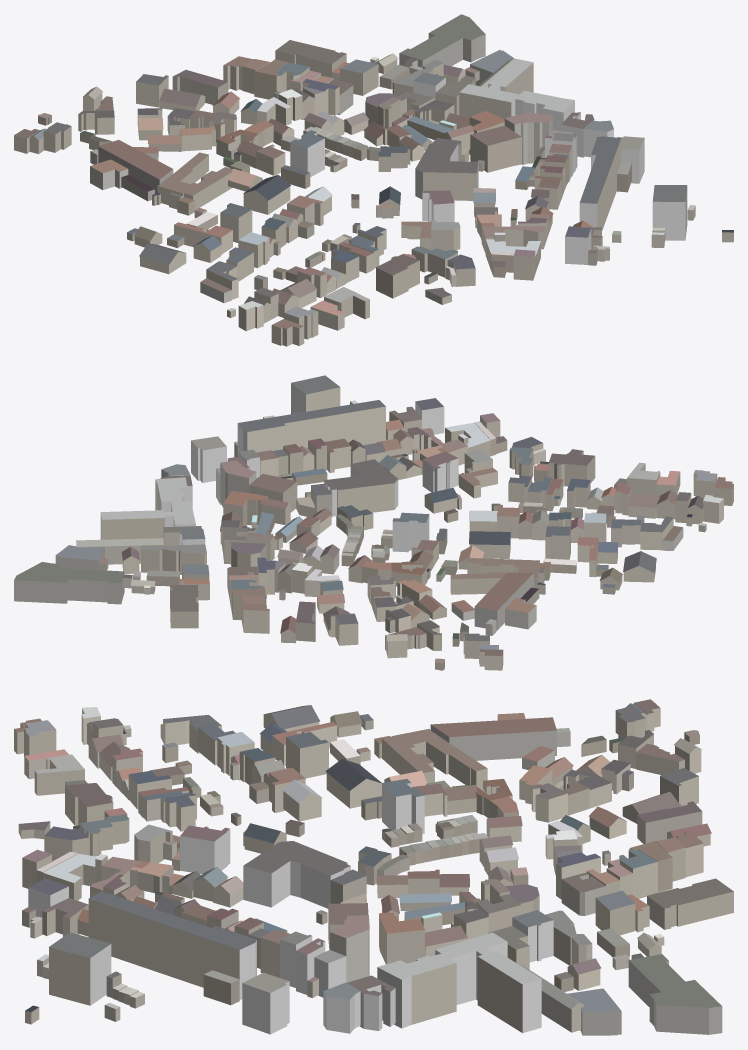
The picture shows the model from 3 angles, top to bottom: view 1: azimuth 30°, elevation 25°; view 2: azimuth 150°, elevation 25°; view 3: azimuth 270°, elevation 25°; orthographic projection. The views are drawn at different scales.
Visible parts, largest first — view 1: tuile; view 2: tuile; view 3: tuile.
Boxes of the visible parts, bbox=[...] form: tuile: bbox=[14, 14, 733, 346]; tuile: bbox=[14, 375, 733, 670]; tuile: bbox=[14, 699, 733, 1035].
Size of the model in its own units: 265 by 33.11 by 270.
